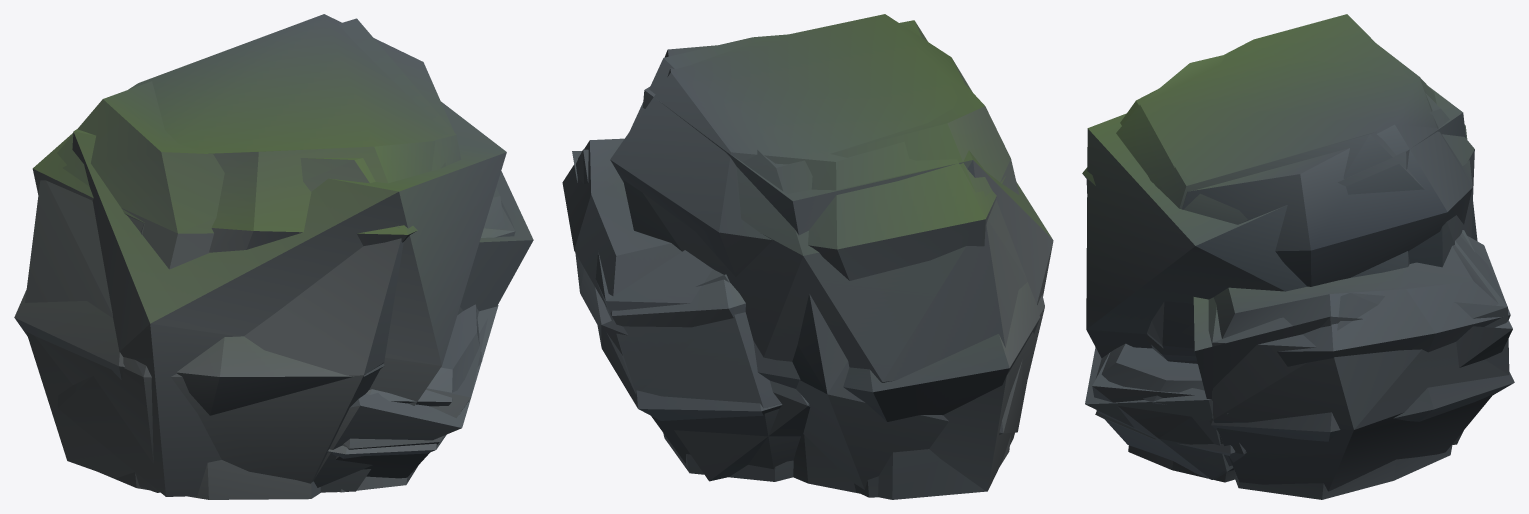
File: BoulderA.glb
3 views of the same model, side by side, from view 1: azimuth 30°, elevation 25°; view 2: azimuth 150°, elevation 25°; view 3: azimuth 270°, elevation 25° (orthographic). The views are drawn at different scales.
Parts seen in each view (by area): view 1: BoulderA_L2, BoulderA_L1, BoulderA_L0; view 2: BoulderA_L0, BoulderA_L1, BoulderA_L2; view 3: BoulderA_L0, BoulderA_L1, BoulderA_L2.
Boxes of the visible parts, box(x1,y1,x2,y2) form: BoulderA_L2: box(57, 101, 533, 496); BoulderA_L1: box(25, 18, 515, 492); BoulderA_L0: box(14, 14, 504, 499); BoulderA_L0: box(562, 14, 1040, 499); BoulderA_L1: box(572, 24, 1044, 497); BoulderA_L2: box(572, 20, 1053, 489); BoulderA_L0: box(1082, 43, 1514, 499); BoulderA_L1: box(1086, 14, 1509, 491); BoulderA_L2: box(1085, 87, 1512, 471).
Bounding box in the file's own units: 2.4 × 1.82 × 2.
